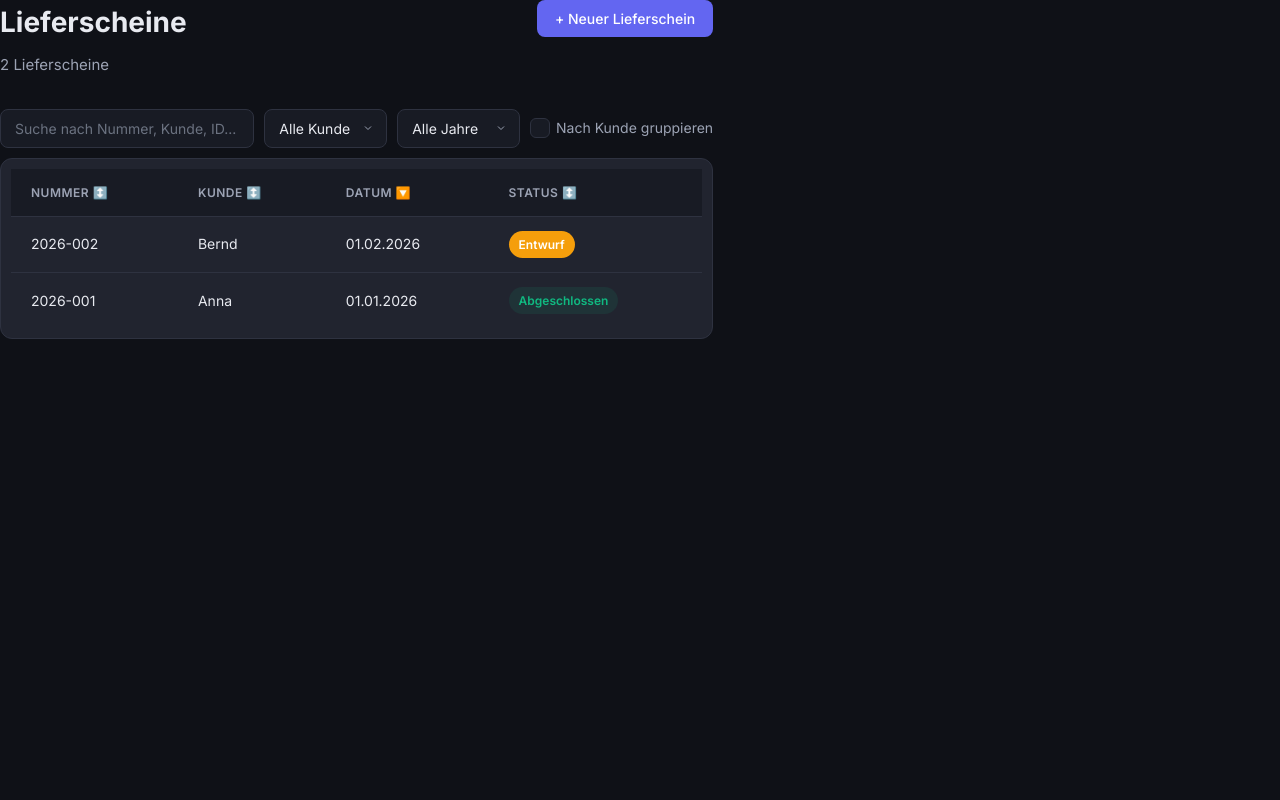
DocumentManager › verhindert das Speichern ohne ausgewählten Kunden
Check: the text "2026-001" is shown, box [11,273,178,328]
What coordinates should you click on to do the following:
click the button "+ Neuer Lieferschein"
I would click on:
 (625, 18)
Its box is [537,0,713,37].
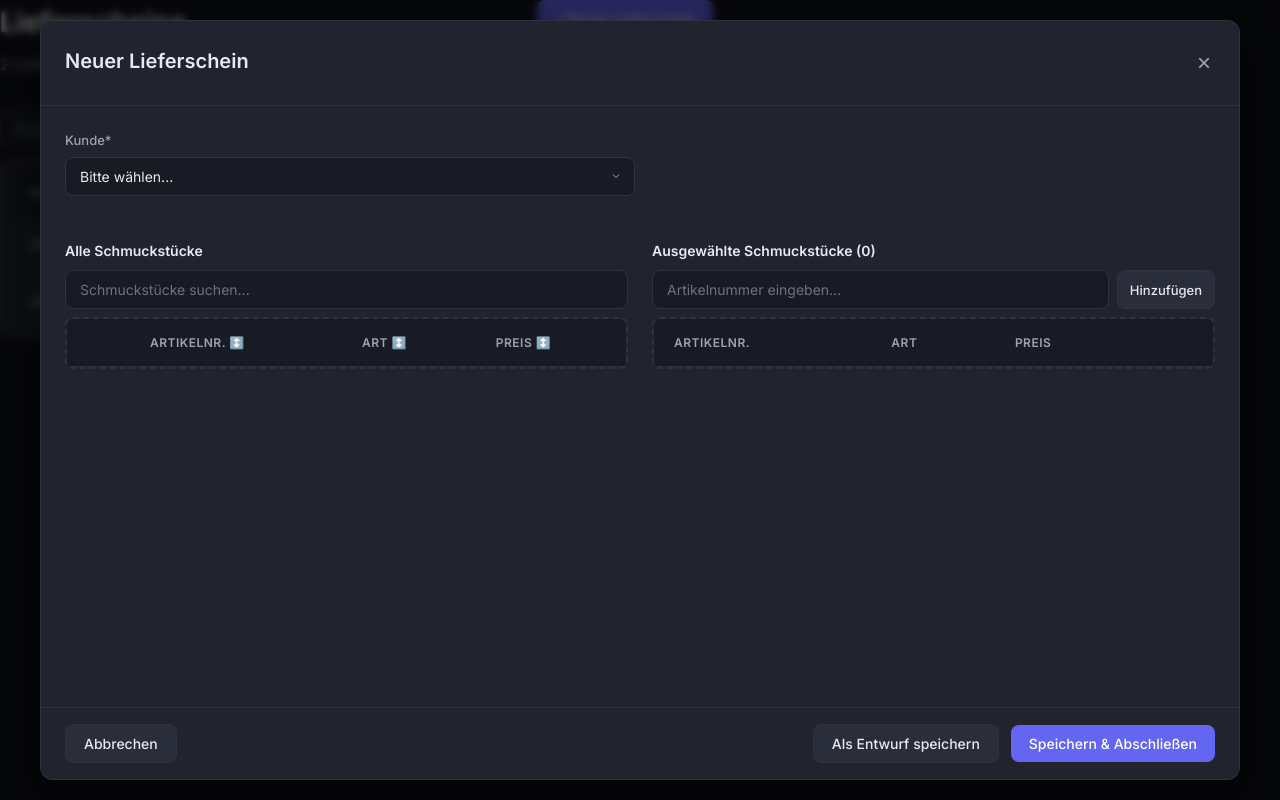
Check: the heading "Neuer Lieferschein" is shown, box [65,45,249,77]
What coordinates should you click on to do the following:
click the button "Speichern & Abschließen"
I would click on:
 (1113, 744)
Its box is [1011,725,1215,762].
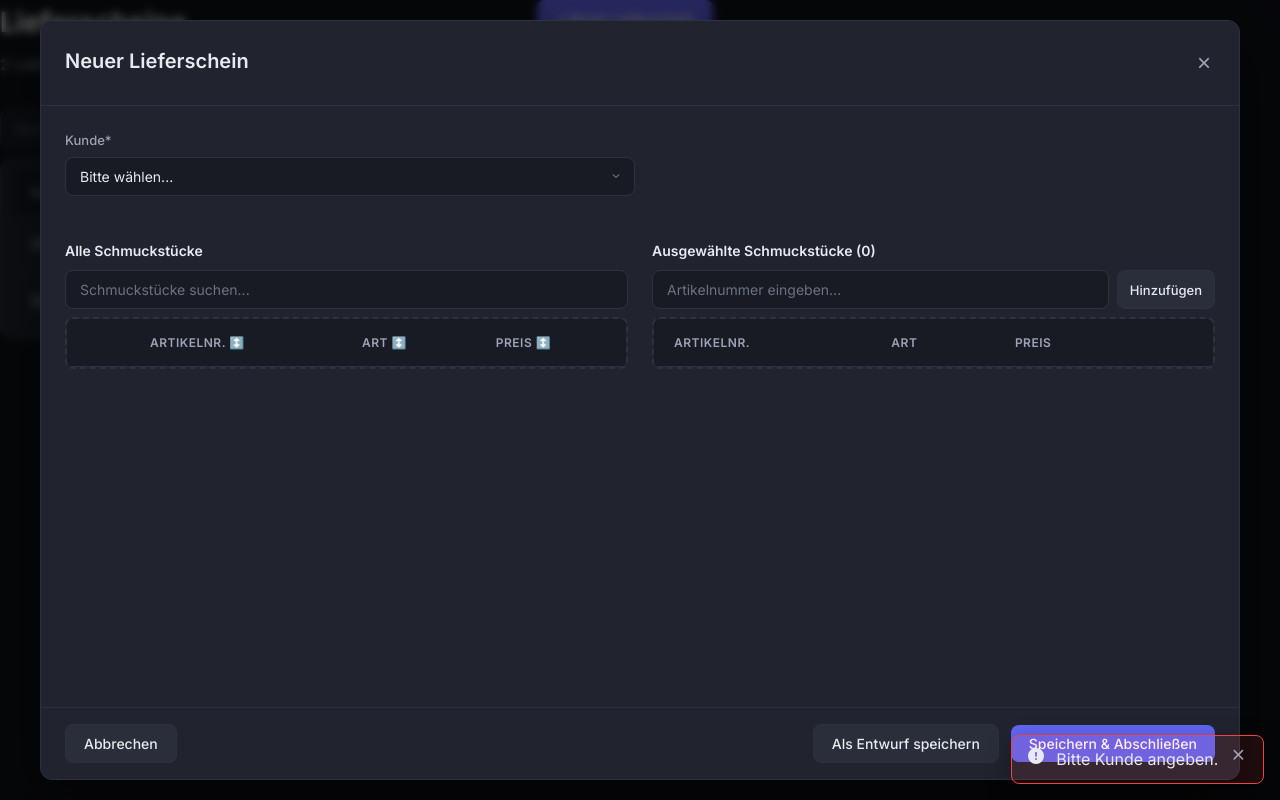
Check: the text "Bitte Kunde angeben." is shown, box [1056,748,1218,771]
